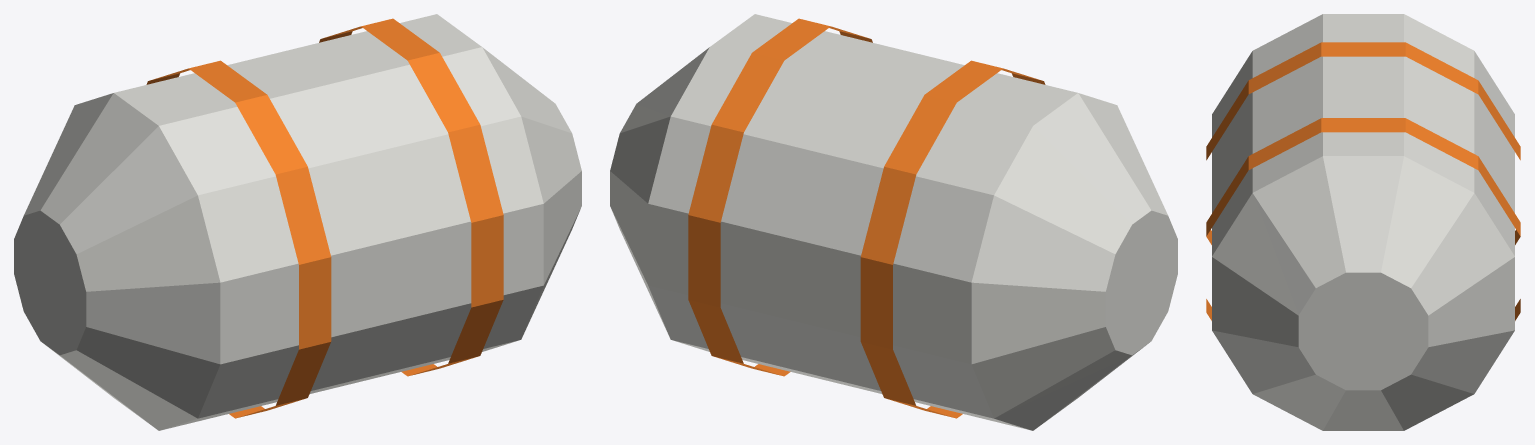
File: fuel_tank.glb
3 views of the same model, side by side, from view 1: azimuth 30°, elevation 25°; view 2: azimuth 150°, elevation 25°; view 3: azimuth 270°, elevation 25° (orthographic). The views are drawn at different scales.
Parts seen in each view (by area): view 1: fuel_tank; view 2: fuel_tank; view 3: fuel_tank.
Part boxes in pixels (x1,y1,x2,y2): fuel_tank: (14,14,581,430); fuel_tank: (610,14,1177,430); fuel_tank: (1206,14,1520,430).
Size of the model in its own units: 0.92 by 0.5602 by 0.5602.
